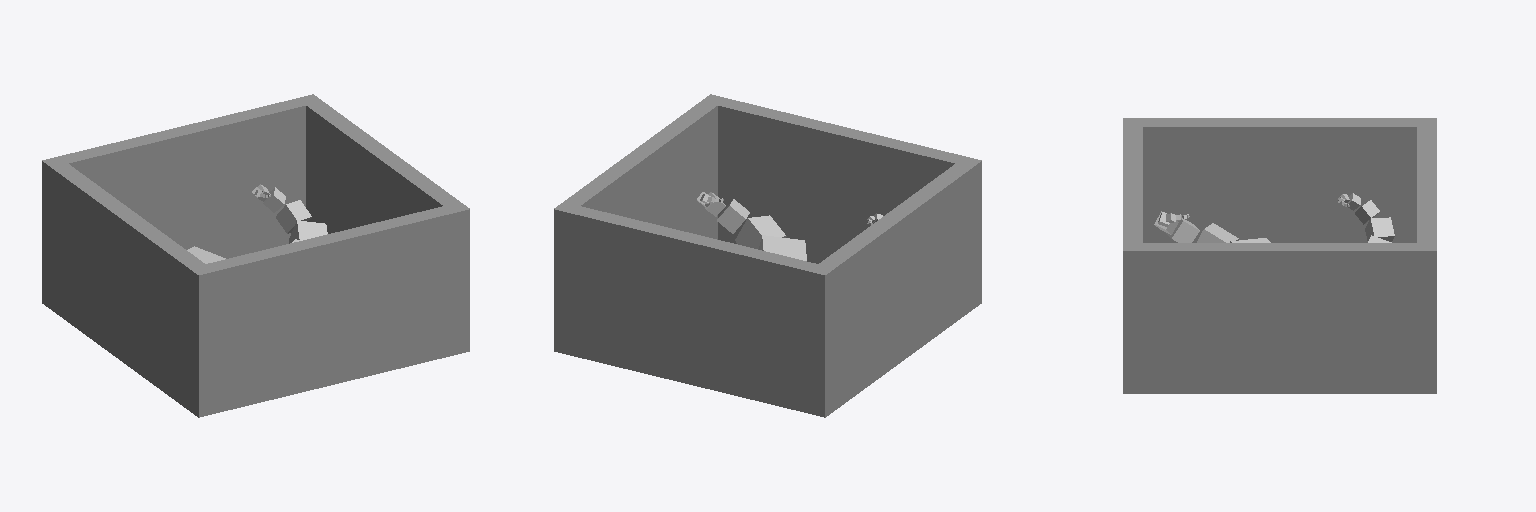
The model's file is pool.obj.
The picture shows the model from 3 angles: view 1: azimuth 30°, elevation 25°; view 2: azimuth 150°, elevation 25°; view 3: azimuth 270°, elevation 25°; orthographic projection.
Parts seen in each view (by area): view 1: Cube.001, Cube.005_Cube.007; view 2: Cube.001, Cube.005_Cube.007; view 3: Cube.001, Cube.005_Cube.007.
Part boxes in pixels (bbox=[...]): Cube.001: bbox=[42, 94, 469, 417]; Cube.005_Cube.007: bbox=[187, 184, 327, 263]; Cube.001: bbox=[554, 94, 981, 417]; Cube.005_Cube.007: bbox=[697, 192, 882, 260]; Cube.001: bbox=[1123, 118, 1436, 393]; Cube.005_Cube.007: bbox=[1154, 193, 1394, 242].
Bounding box in the file's own units: 1 × 0.5 × 1.